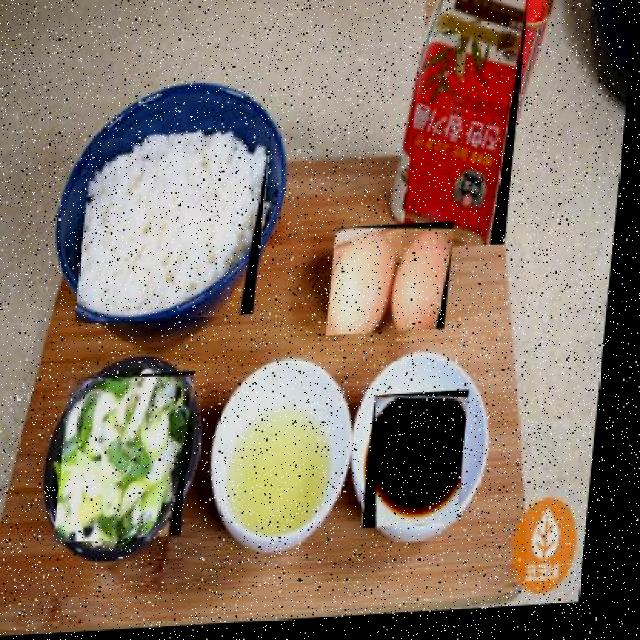Egg: (333, 227, 461, 342)
Onion Leaves: (64, 374, 204, 546)
Soy Sauce: (373, 396, 479, 535)
